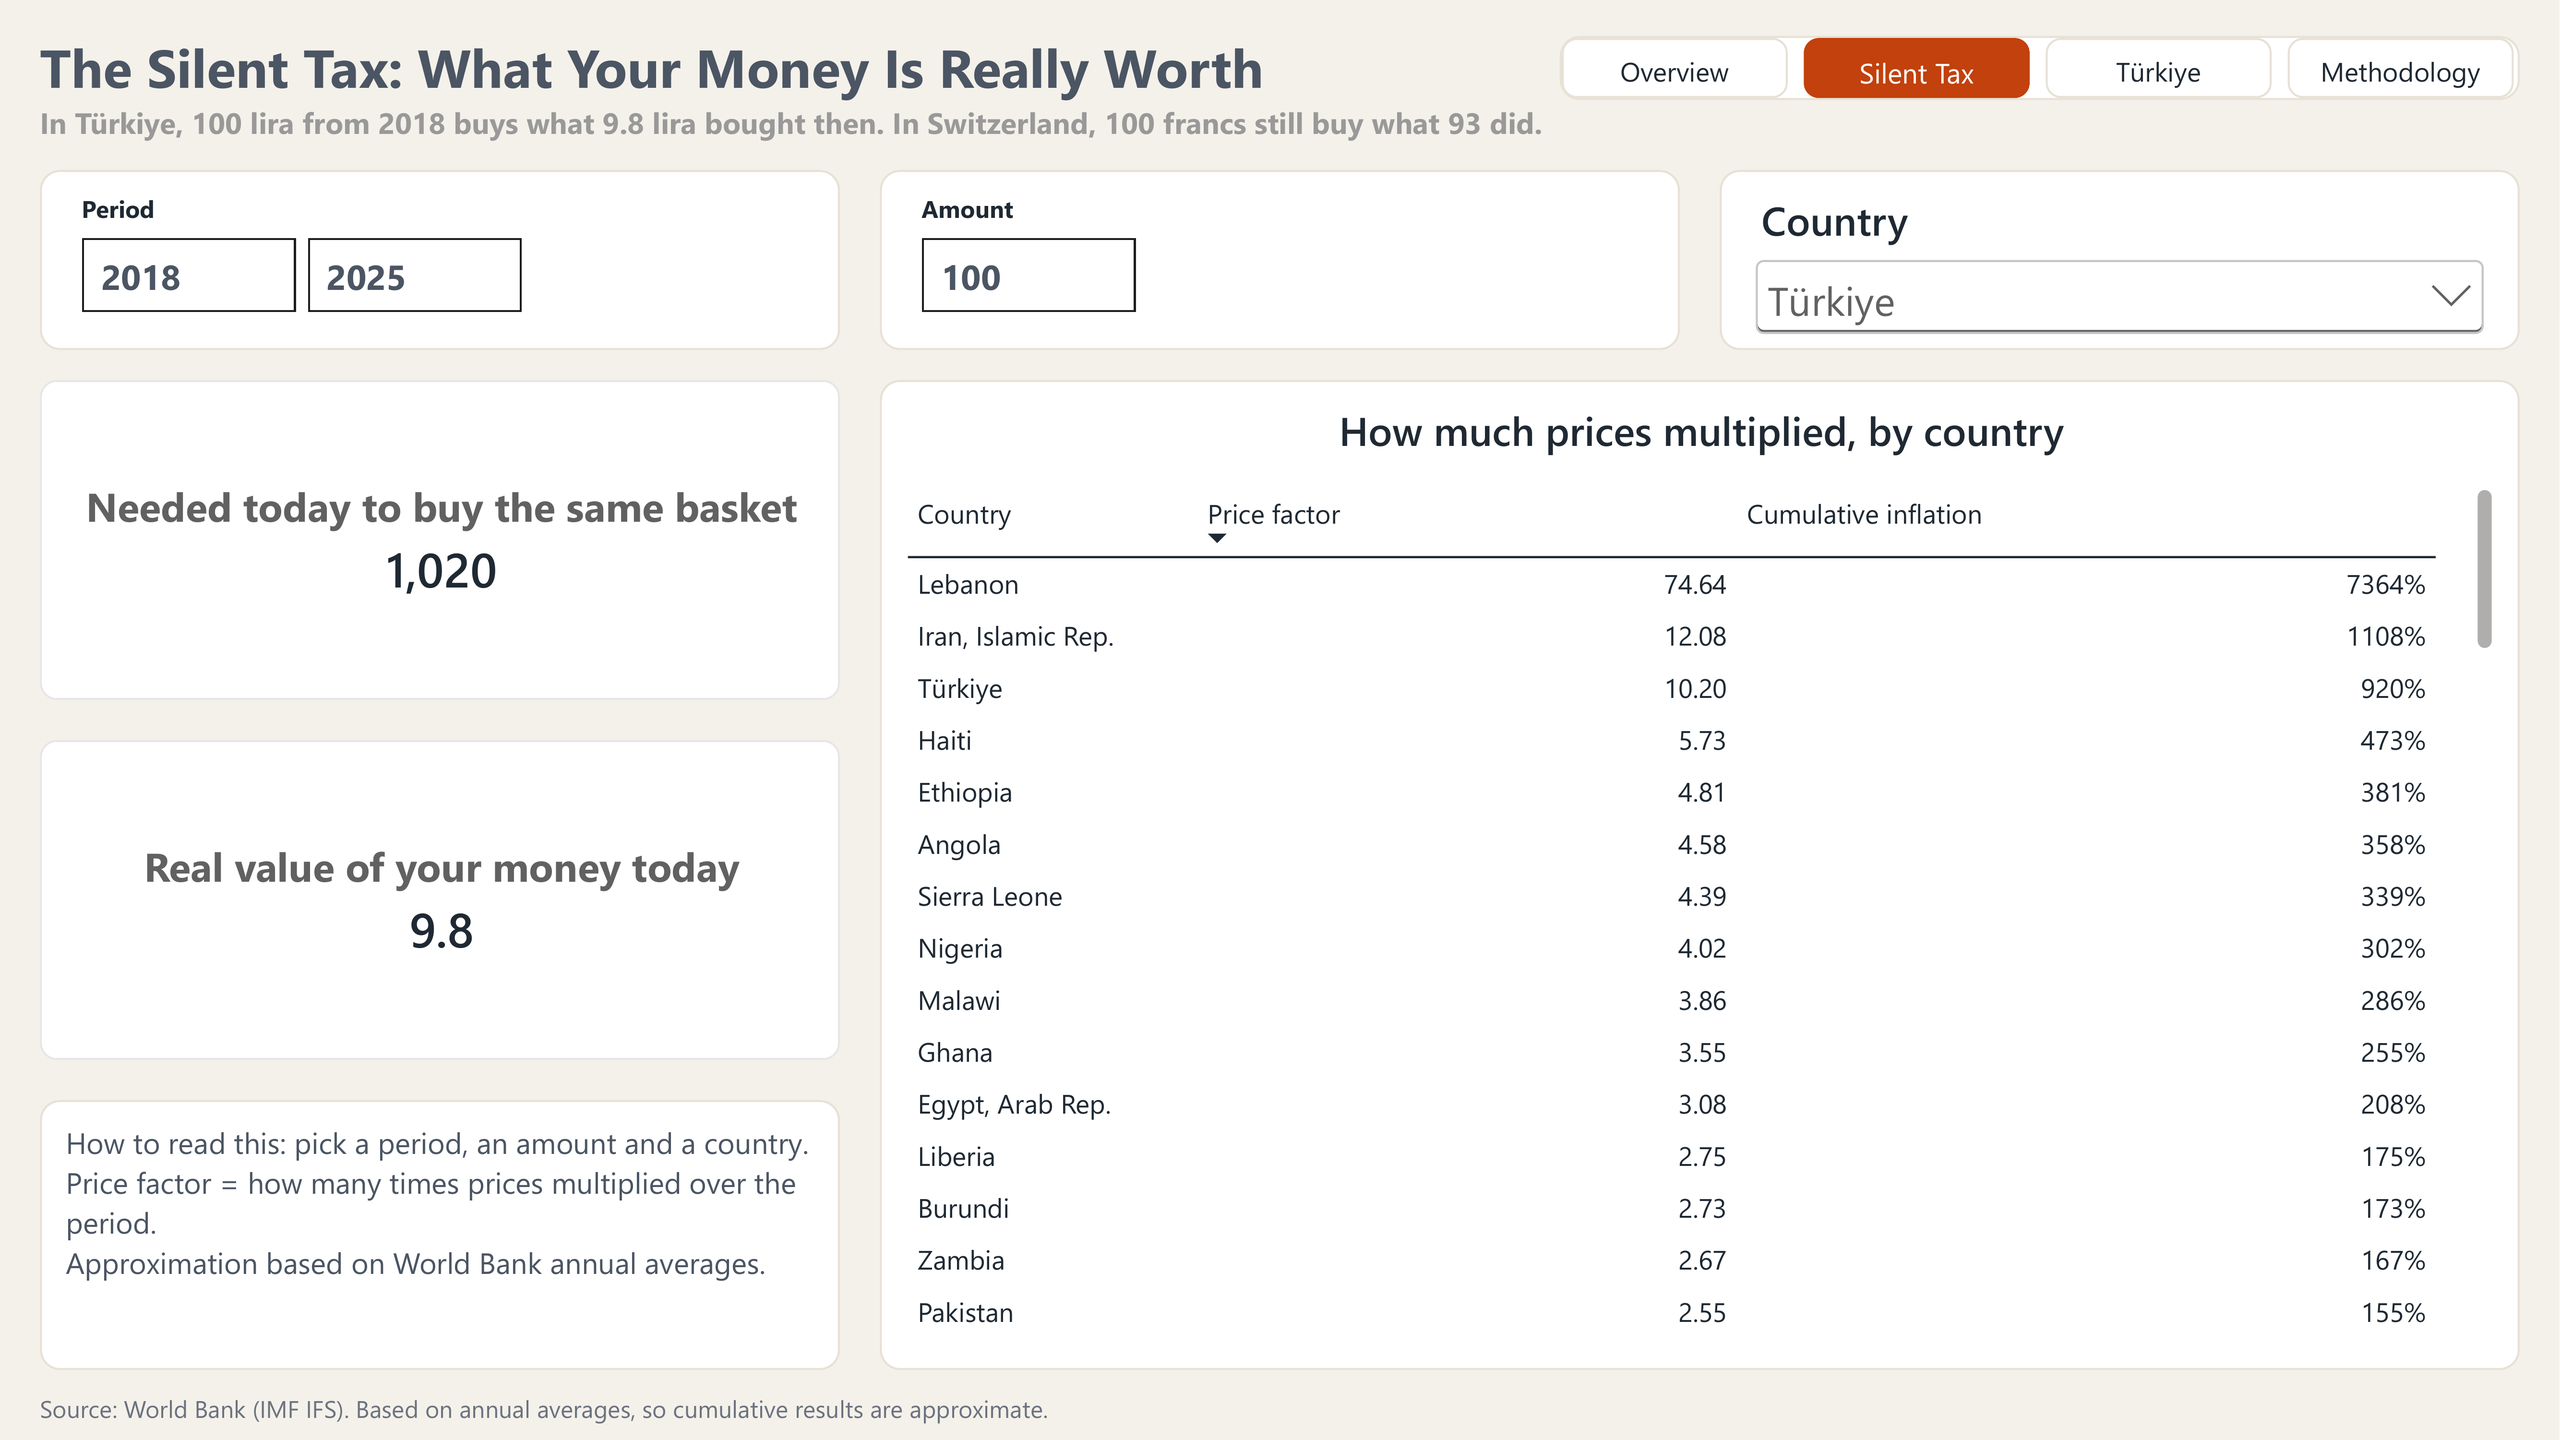

This screenshot's page, from the dashboard's own definition file:
{"tool":"powerbi","page":{"name":"Silent Tax","canvas":[1280,720],"ordinal":1},"visuals":[{"type":"slicer","fields":{"Values":["Calendar.Year"]},"box":[20,85,400,90],"z":0},{"type":"tableEx","title":"How much prices multiplied, by country","fields":{"Values":["Countries.Country Name","Inflation.Price Factor","Inflation.Cumulative Inflation"]},"box":[440,190,820,495],"z":1000},{"type":"slicer","fields":{"Values":["Amount.Amount"]},"box":[440,85,400,90],"z":2000},{"type":"slicer","fields":{"Values":["Countries.Country Name"]},"box":[860,85,400,90],"z":3000},{"type":"cardVisual","fields":{"Data":["Inflation.Needed Today Label"]},"box":[20,190,400,160],"z":4000},{"type":"cardVisual","fields":{"Data":["Inflation.Real Value"]},"box":[20,370,400,160],"z":5000},{"type":"textbox","box":[20,15,1240,60],"z":6000},{"type":"textbox","box":[20,550,400,135],"z":7000},{"type":"textbox","box":[20,695,1240.6,22],"z":8000},{"type":"pageNavigator","box":[780,18,480,32],"z":8001}]}

Visuals, with their boxes in screenshot pixels (x1, y1, x2, y2), scaled from the page's 1280x720 canvas onto the 2560x1440 screenshot:
slicer - Calendar.Year: <box>40,170,840,350</box>
"How much prices multiplied, by country" tableEx: <box>880,380,2520,1370</box>
slicer - Amount.Amount: <box>880,170,1680,350</box>
slicer - Countries.Country Name: <box>1720,170,2520,350</box>
cardVisual - Inflation.Needed Today Label: <box>40,380,840,700</box>
cardVisual - Inflation.Real Value: <box>40,740,840,1060</box>
textbox: <box>40,30,2520,150</box>
textbox: <box>40,1100,840,1370</box>
textbox: <box>40,1390,2521,1434</box>
pageNavigator: <box>1560,36,2520,100</box>
